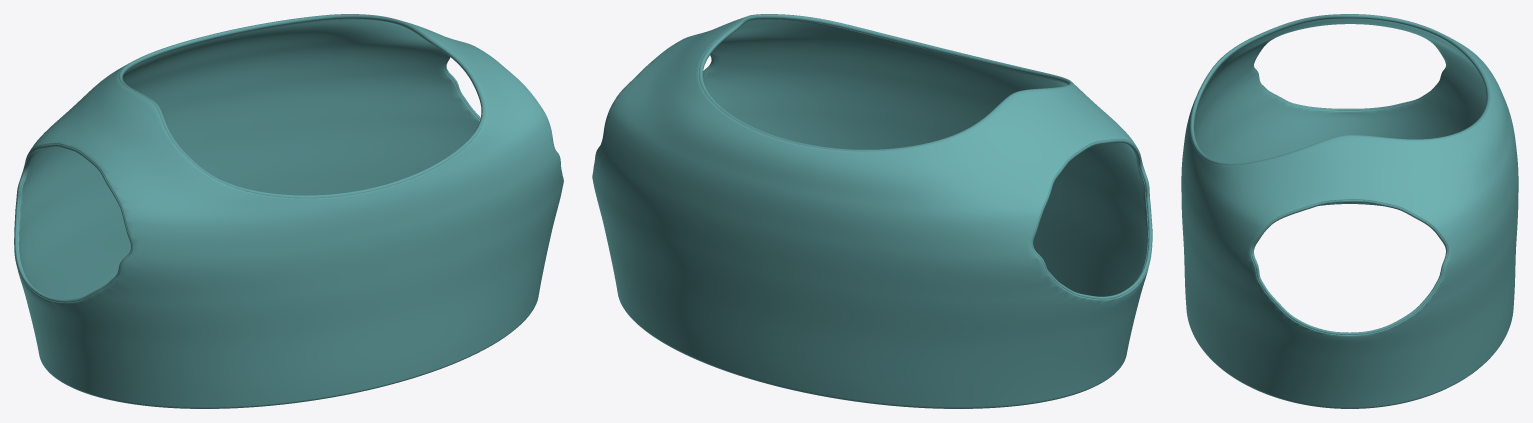
Rendered from Masculine-tank-top.glb.
The picture shows the model from 3 angles, left to right: view 1: azimuth 30°, elevation 25°; view 2: azimuth 150°, elevation 25°; view 3: azimuth 270°, elevation 25°; orthographic projection. The views are drawn at different scales.
Parts seen in each view (by area): view 1: Clothing / tank, Neckline / fitted crew export, Tank / armhole binding -1 export, Shirt / seated hem export; view 2: Clothing / tank, Neckline / fitted crew export, Tank / armhole binding -1 export, Shirt / seated hem export; view 3: Clothing / tank, Neckline / fitted crew export, Tank / armhole binding 1 export, Tank / armhole binding -1 export, Shirt / seated hem export.
Part boxes in pixels (x1,y1,x2,y2): Clothing / tank: (14,19,563,408); Neckline / fitted crew export: (118,14,485,198); Tank / armhole binding -1 export: (14,143,132,302); Shirt / seated hem export: (62,336,505,408); Clothing / tank: (592,17,1152,408); Neckline / fitted crew export: (699,14,1072,151); Tank / armhole binding -1 export: (1031,139,1152,299); Shirt / seated hem export: (653,336,1100,408); Clothing / tank: (1181,14,1518,408); Neckline / fitted crew export: (1189,14,1490,165); Tank / armhole binding 1 export: (1251,200,1448,334); Tank / armhole binding -1 export: (1254,66,1445,110); Shirt / seated hem export: (1227,203,1472,408).
Bounding box in the file's own units: 0.7132 × 0.3414 × 0.4506.
